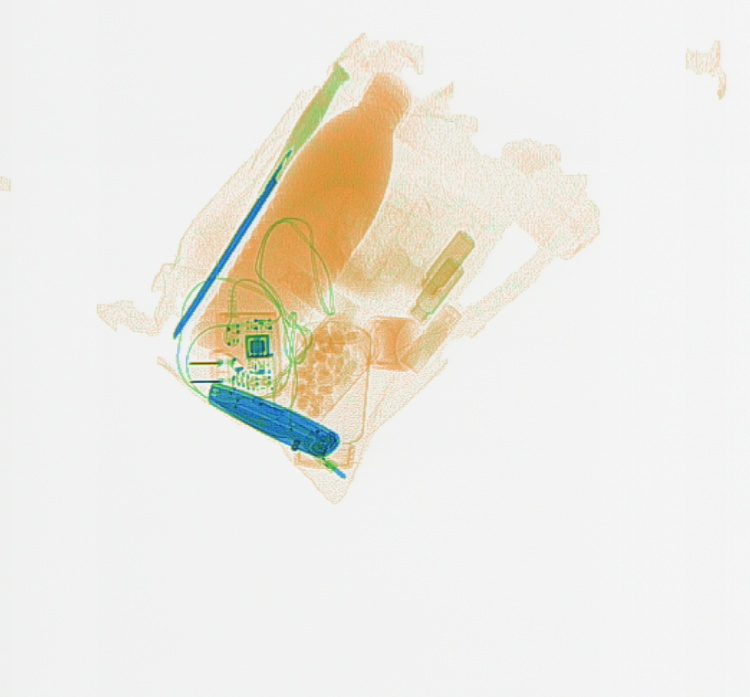knife: (173, 58, 350, 338), (206, 381, 342, 456)
